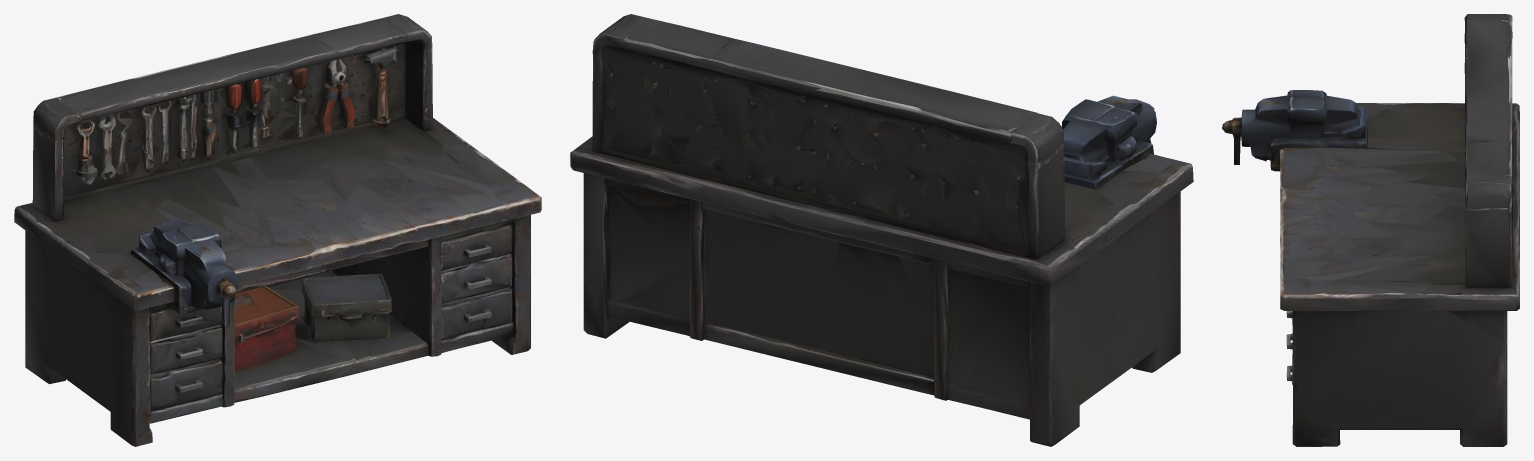
Rendered from workbench_basic_metallicheskiy_idle.glb.
The picture shows the model from 3 angles, left to right: view 1: azimuth 30°, elevation 25°; view 2: azimuth 150°, elevation 25°; view 3: azimuth 270°, elevation 25°; orthographic projection. The views are drawn at different scales.
Parts seen in each view (by area): view 1: tripo_node_55bc97ea-b7b6-4ffd-bf6d-8a03f8ced07b; view 2: tripo_node_55bc97ea-b7b6-4ffd-bf6d-8a03f8ced07b; view 3: tripo_node_55bc97ea-b7b6-4ffd-bf6d-8a03f8ced07b.
Boxes of the visible parts, x1,y1,x2,y2 form: tripo_node_55bc97ea-b7b6-4ffd-bf6d-8a03f8ced07b: (14, 14, 541, 446); tripo_node_55bc97ea-b7b6-4ffd-bf6d-8a03f8ced07b: (570, 14, 1193, 446); tripo_node_55bc97ea-b7b6-4ffd-bf6d-8a03f8ced07b: (1222, 14, 1519, 446).
Bounding box in the file's own units: 1.55 × 0.9492 × 1.
1 material, 1 textured.
